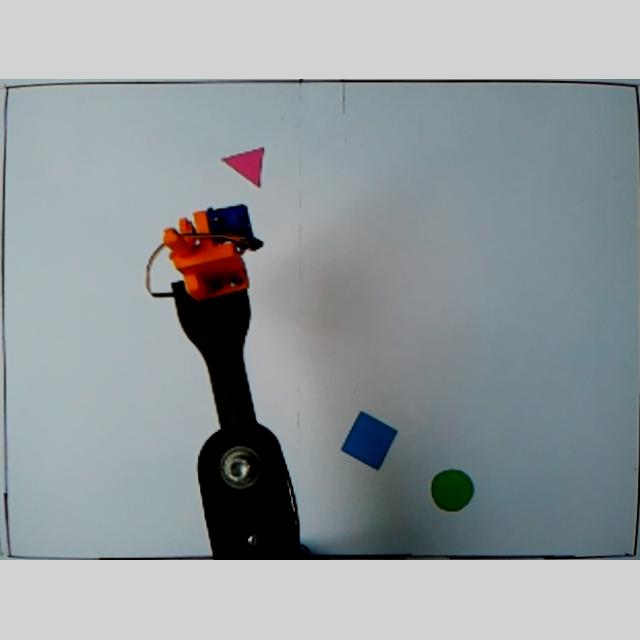blueSquare: (340, 411, 400, 474)
greenCircle: (430, 468, 474, 516)
pinkTriangle: (220, 144, 268, 192)
